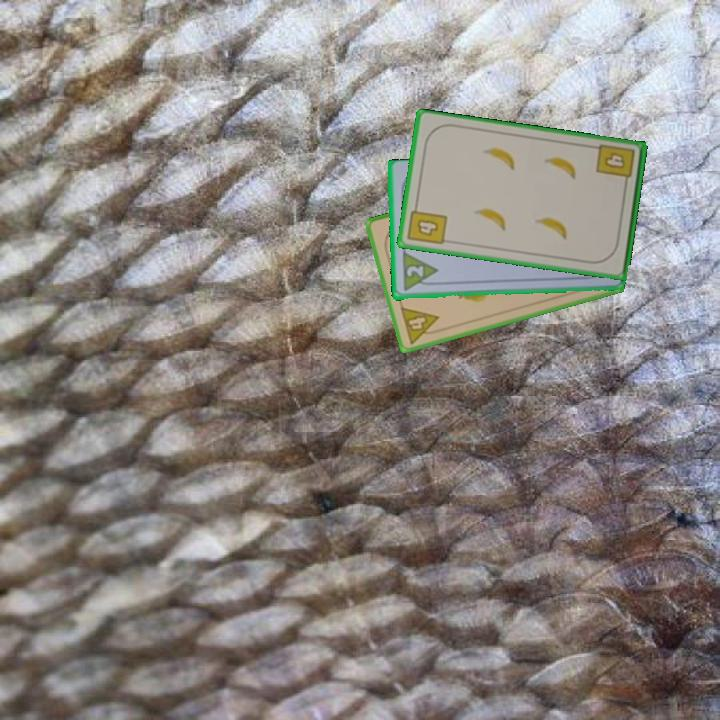2p: (402, 262, 426, 280)
4b: (404, 200, 450, 248), (593, 141, 638, 189)
4p: (397, 303, 445, 347)
